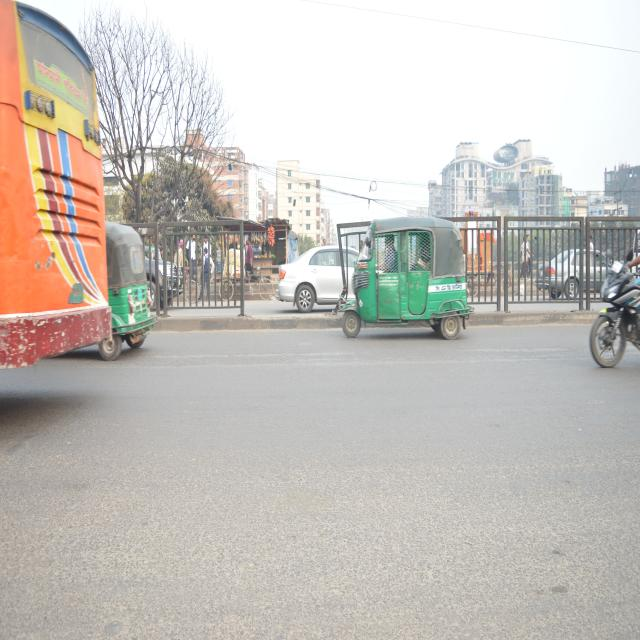bus: (0, 0, 111, 397)
car: (277, 234, 365, 328), (537, 233, 606, 311)
motorbike: (591, 255, 640, 383)
